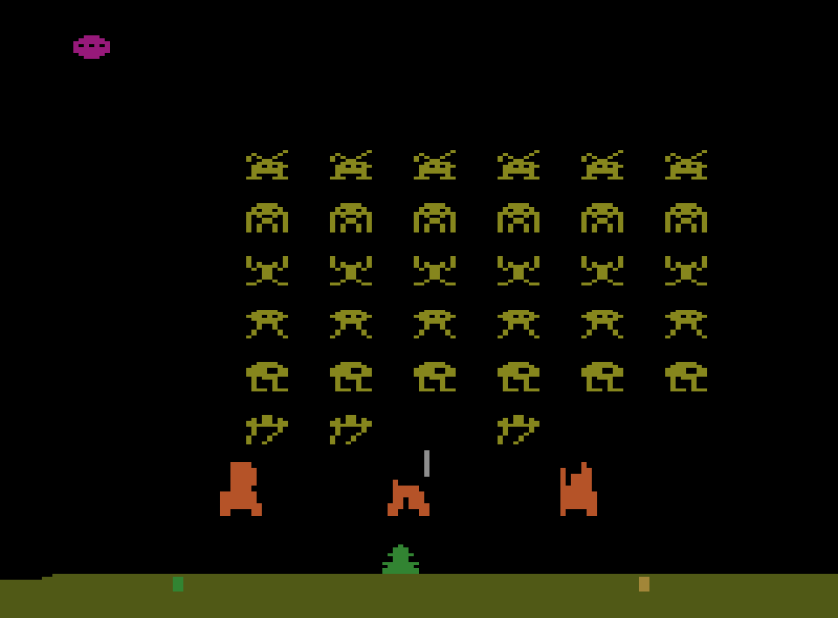bonus: (71, 34, 111, 61)
bullet: (422, 447, 430, 477)
invader1: (579, 148, 625, 184), (243, 148, 290, 183), (496, 147, 542, 182), (411, 148, 458, 182), (329, 148, 374, 183), (664, 148, 709, 182)
invader2: (662, 200, 709, 235), (243, 200, 290, 234), (328, 201, 374, 235), (496, 201, 541, 235), (411, 201, 457, 234), (579, 202, 625, 235)
invader3: (411, 253, 458, 289), (579, 253, 626, 289), (496, 253, 542, 288), (663, 253, 709, 288), (328, 254, 375, 288), (244, 254, 290, 288)
invader4: (412, 307, 458, 342), (580, 307, 626, 341), (497, 307, 541, 342), (328, 307, 374, 340), (663, 308, 709, 341), (245, 308, 289, 340)
invader5: (412, 360, 458, 394), (580, 360, 626, 394), (244, 359, 289, 393), (329, 360, 374, 393), (663, 361, 708, 394), (496, 361, 541, 393)
invader6: (328, 413, 374, 448), (495, 411, 541, 446), (244, 414, 289, 447)
player: (382, 542, 421, 576)
